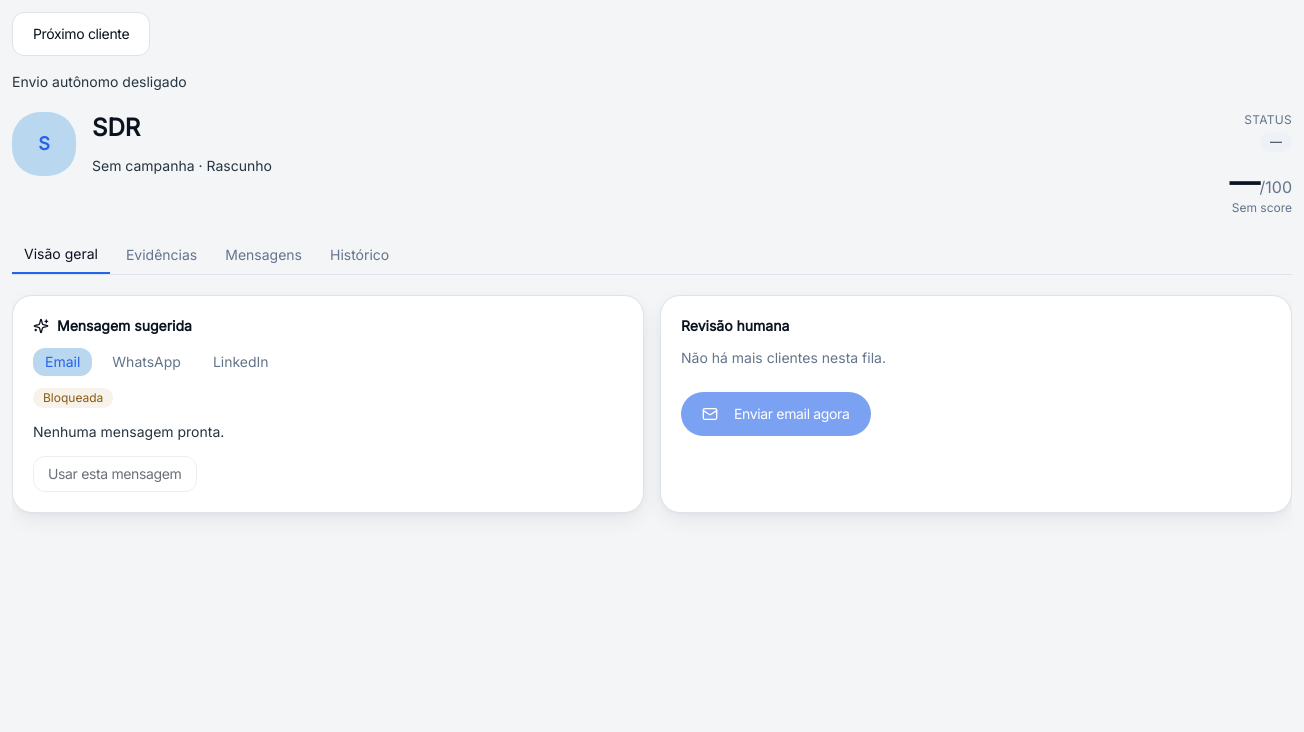
SdrPage › displays the execution error when running the next customer fails in pt
The width and height of the screenshot is (1304, 732).
Step 1. Click the button "Próximo cliente" → (81, 34), box [12,12,150,56]
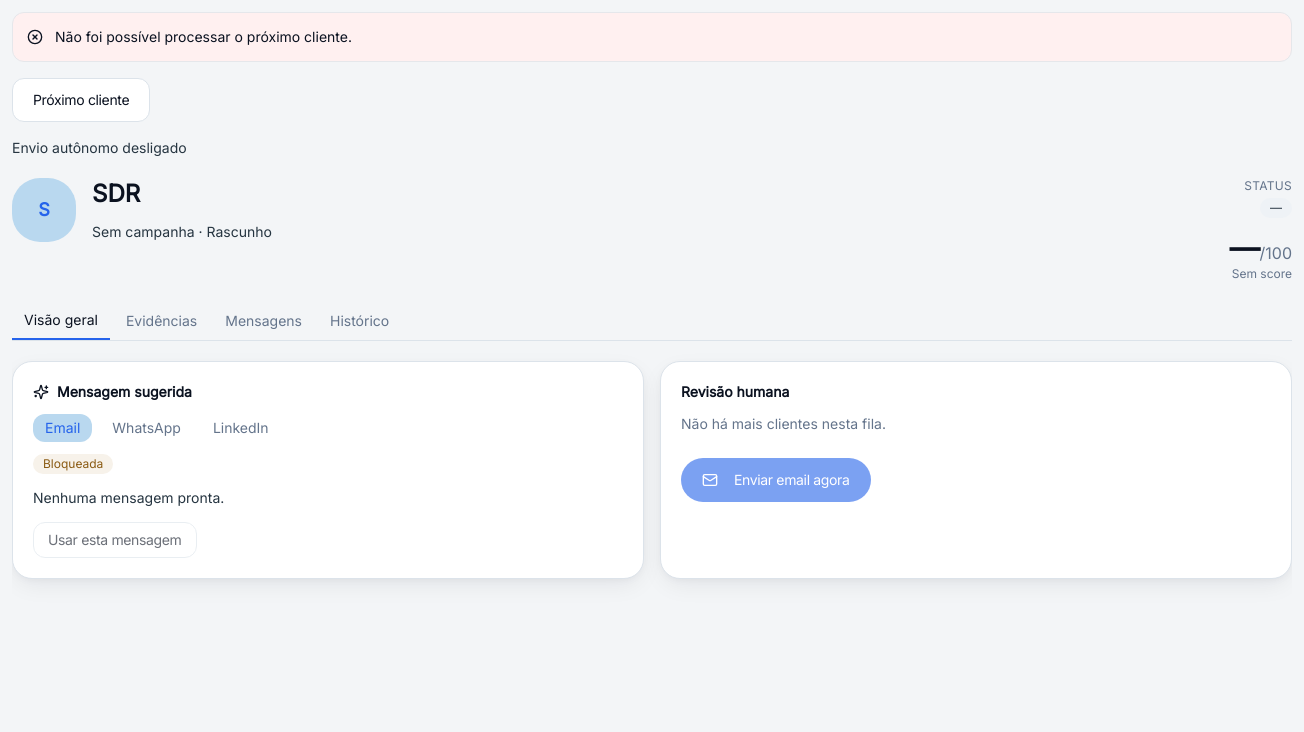
Expected: the message shows "cliente", [55,28,352,45]
Expected: the message reads "Não foi possível processar o próximo cliente.", [55,28,352,45]
